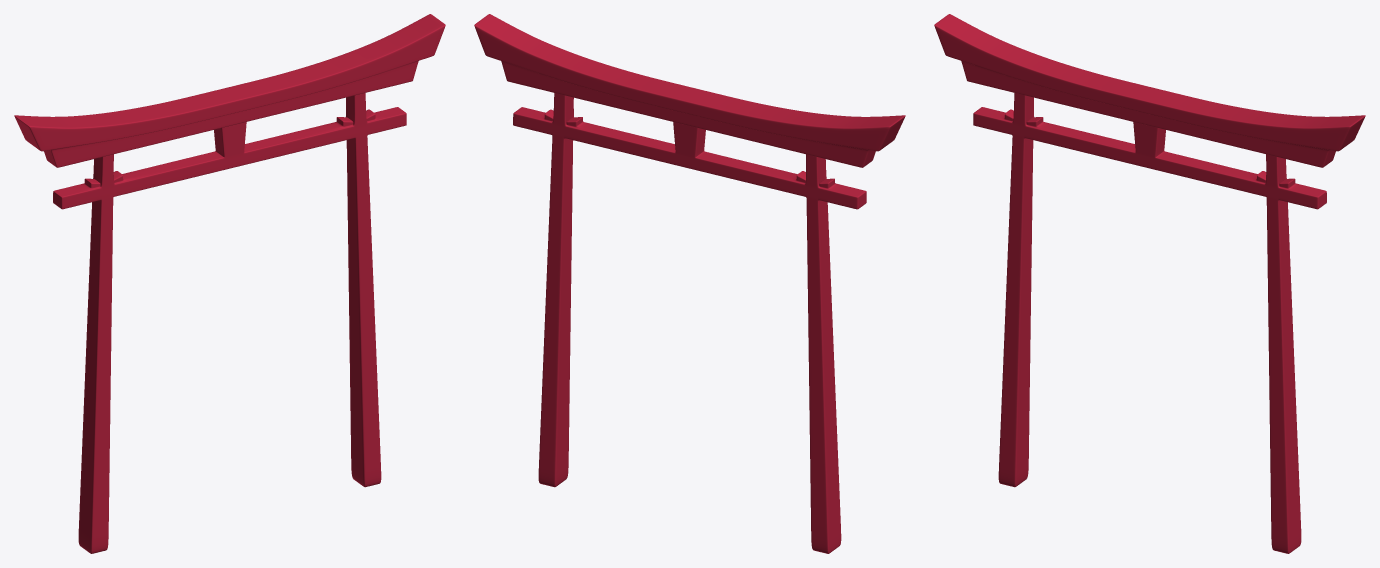
File: 3dmodel_01.gltf
The picture shows the model from 3 angles, left to right: view 1: azimuth 30°, elevation 25°; view 2: azimuth 150°, elevation 25°; view 3: azimuth 330°, elevation 25°; orthographic projection.
Visible parts, largest first — view 1: Cube.001, Cube; view 2: Cube.001, Cube; view 3: Cube.001, Cube.
Boxes of the visible parts, <box> form: Cube.001: <box>53,93,406,553</box>; Cube: <box>14,14,445,167</box>; Cube.001: <box>513,93,866,553</box>; Cube: <box>474,14,905,167</box>; Cube.001: <box>973,93,1326,553</box>; Cube: <box>934,14,1365,167</box>.
Size of the model in its own units: 29.74 by 30.33 by 1.99.
